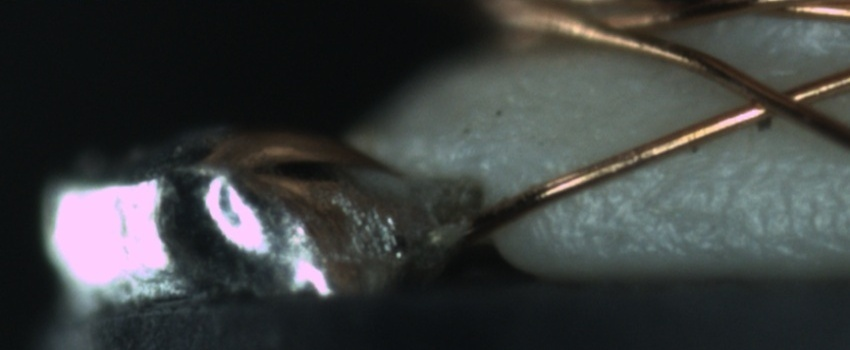CL: (712, 68, 840, 129)
